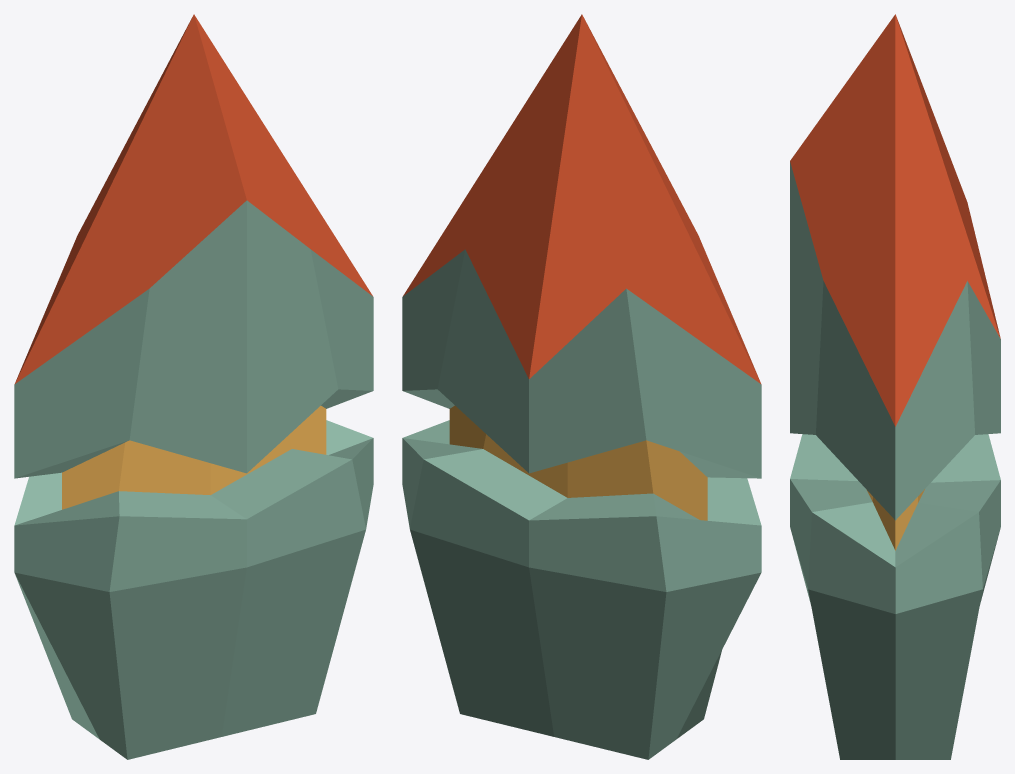
Rendered from cactus_seed_01.fbx.
3 renders of one model, left to right at view 1: azimuth 30°, elevation 25°; view 2: azimuth 150°, elevation 25°; view 3: azimuth 270°, elevation 25°, orthographic.
Visible parts, largest first — view 1: seed; view 2: seed; view 3: seed.
Part boxes in pixels (x1=…): seed: x1=14, y1=14, x2=373, y2=759; seed: x1=402, y1=14, x2=761, y2=759; seed: x1=790, y1=14, x2=1000, y2=759.
Size of the model in its own units: 23.63 by 44.18 by 12.06.
1 material, 1 textured.
